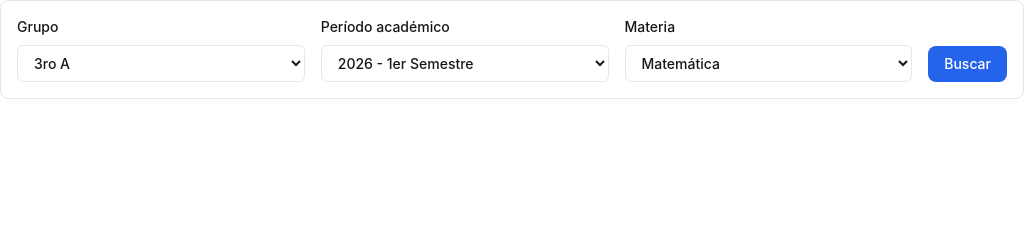
Scenario: CalificacionesRapidasSection › consulta calificaciones por materiaId asignada al grupo, nunca por texto libre
Select "2026 - 1er Semestre" in the dropdown labelled "Período académico": (465,64) x1=321 y1=45 x2=609 y2=82
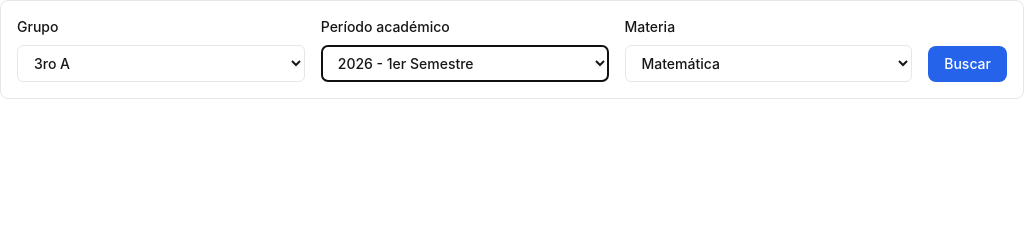
Select "Matemática" in the dropdown labelled "Materia": (768,64) x1=624 y1=45 x2=912 y2=82
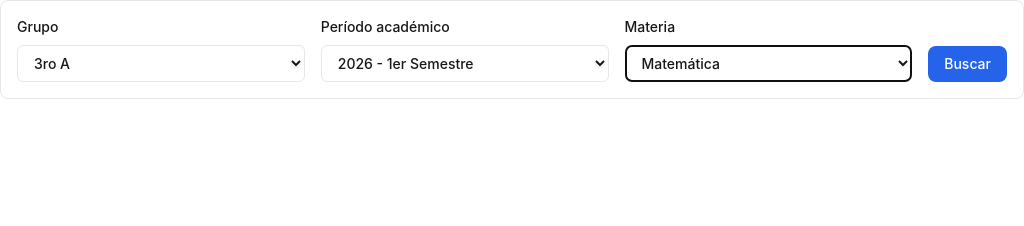
Click the button "Buscar": (968,64) x1=928 y1=46 x2=1007 y2=82
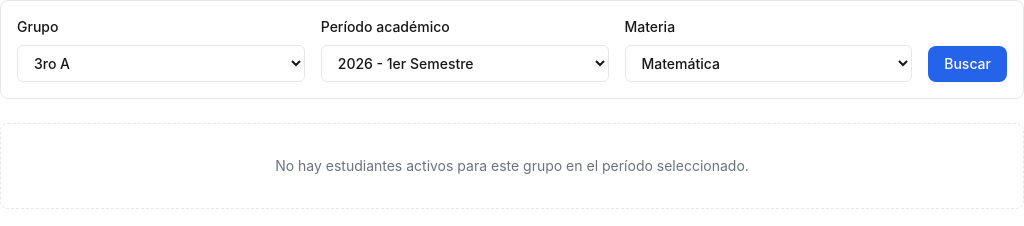
Expected: the text "No hay estudiantes activos" is shown, x1=275 y1=157 x2=749 y2=174
